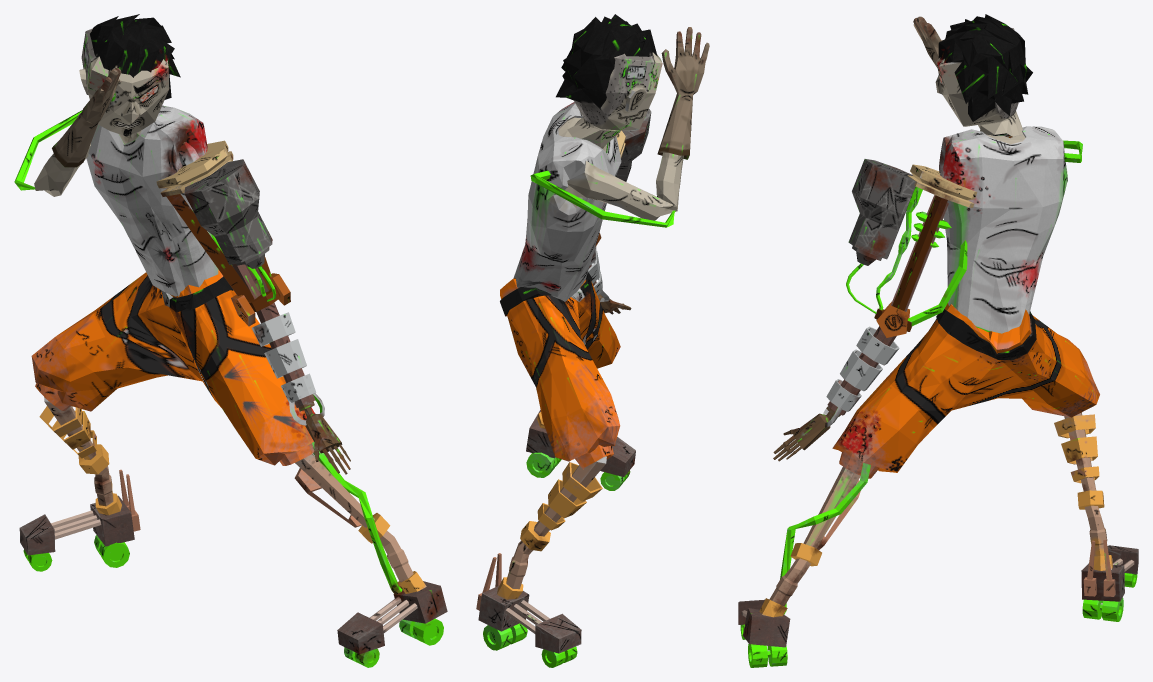
The model's file is CyborgFINALAnimation_000060.obj.
3 views of the same model, side by side, from view 1: azimuth 30°, elevation 25°; view 2: azimuth 150°, elevation 25°; view 3: azimuth 270°, elevation 25° (orthographic). The views are drawn at different scales.
Parts seen in each view (by area): view 1: CyborgMesh_Cube.002; view 2: CyborgMesh_Cube.002; view 3: CyborgMesh_Cube.002.
Boxes of the visible parts, x1=… form: CyborgMesh_Cube.002: x1=14, y1=14, x2=447, y2=667; CyborgMesh_Cube.002: x1=476, y1=14, x2=709, y2=667; CyborgMesh_Cube.002: x1=738, y1=14, x2=1138, y2=667.
Bounding box in the file's own units: 4.24 × 8.63 × 5.44.
